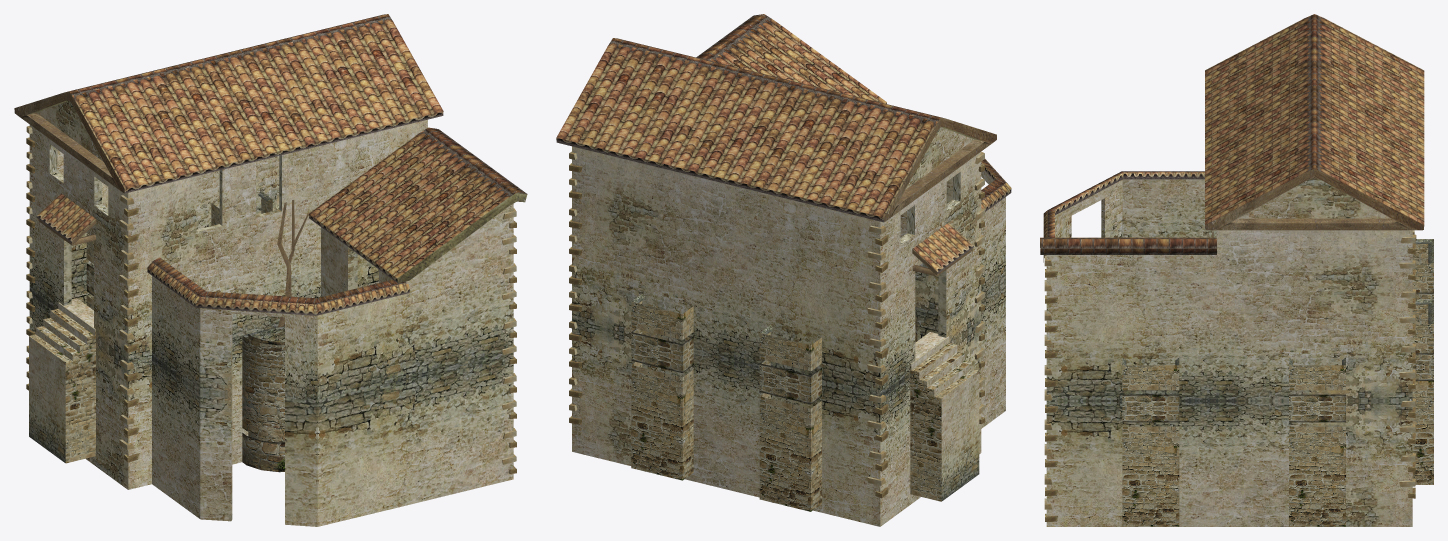
File: hele_house_d.dae
3 renders of one model, left to right at view 1: azimuth 30°, elevation 25°; view 2: azimuth 150°, elevation 25°; view 3: azimuth 270°, elevation 25°, orthographic. The views are drawn at different scales.
Visible parts, largest first — view 1: hele_house_d; view 2: hele_house_d; view 3: hele_house_d.
Boxes of the visible parts, x1=… form: hele_house_d: x1=14, y1=14, x2=527, y2=526; hele_house_d: x1=556, y1=14, x2=1011, y2=526; hele_house_d: x1=1040, y1=14, x2=1433, y2=526.
Bounding box in the file's own units: 14.37 × 14.19 × 14.44.
